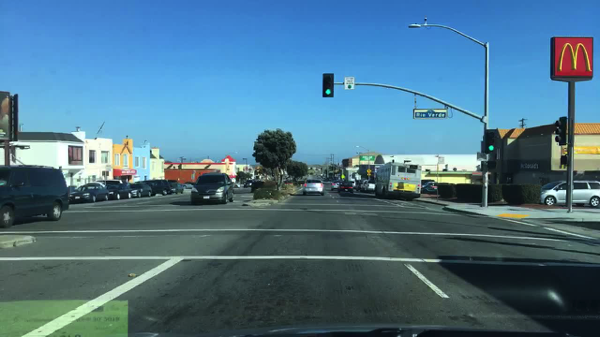bus: (375, 161, 422, 201)
car: (1, 163, 71, 228), (538, 177, 599, 207), (190, 172, 234, 204), (66, 182, 110, 204), (96, 179, 131, 200), (144, 179, 169, 196), (302, 178, 325, 196), (130, 183, 151, 198), (419, 181, 436, 194), (169, 182, 184, 195), (365, 179, 375, 196), (330, 180, 341, 191), (243, 178, 253, 188), (360, 179, 367, 193), (183, 183, 194, 189), (355, 181, 361, 191), (350, 181, 357, 189), (231, 182, 240, 187)
traffic light: (554, 117, 565, 146), (484, 128, 494, 154), (322, 72, 332, 98), (560, 154, 567, 167), (487, 161, 496, 169)
traffic sign: (412, 108, 446, 118), (343, 76, 353, 90), (341, 174, 345, 179), (366, 169, 371, 173), (366, 173, 371, 176)
